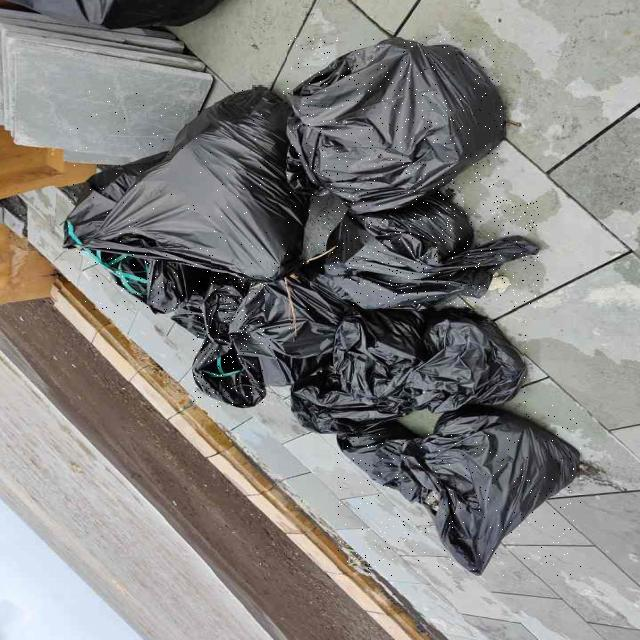plastic: (68, 86, 309, 281), (338, 405, 581, 575), (288, 37, 505, 212), (292, 310, 524, 434), (318, 193, 540, 308), (406, 310, 527, 412), (193, 273, 265, 407), (229, 277, 347, 357), (82, 248, 211, 312)
